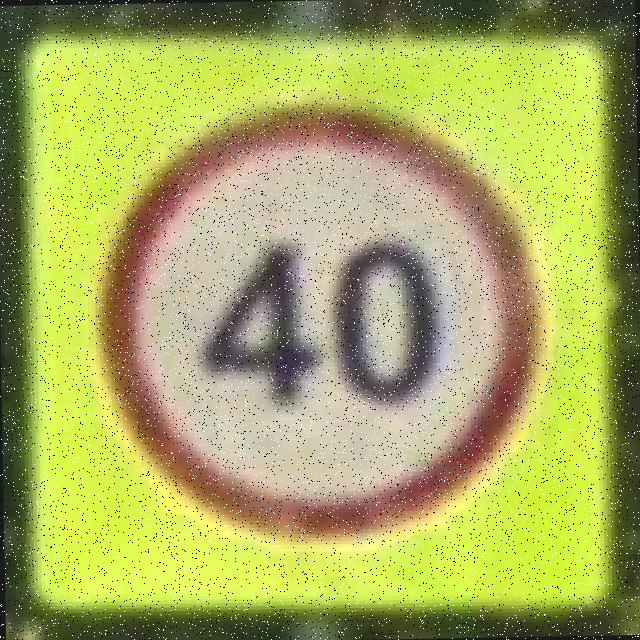Ograniczenie predkosci do 40: (88, 93, 546, 552)
